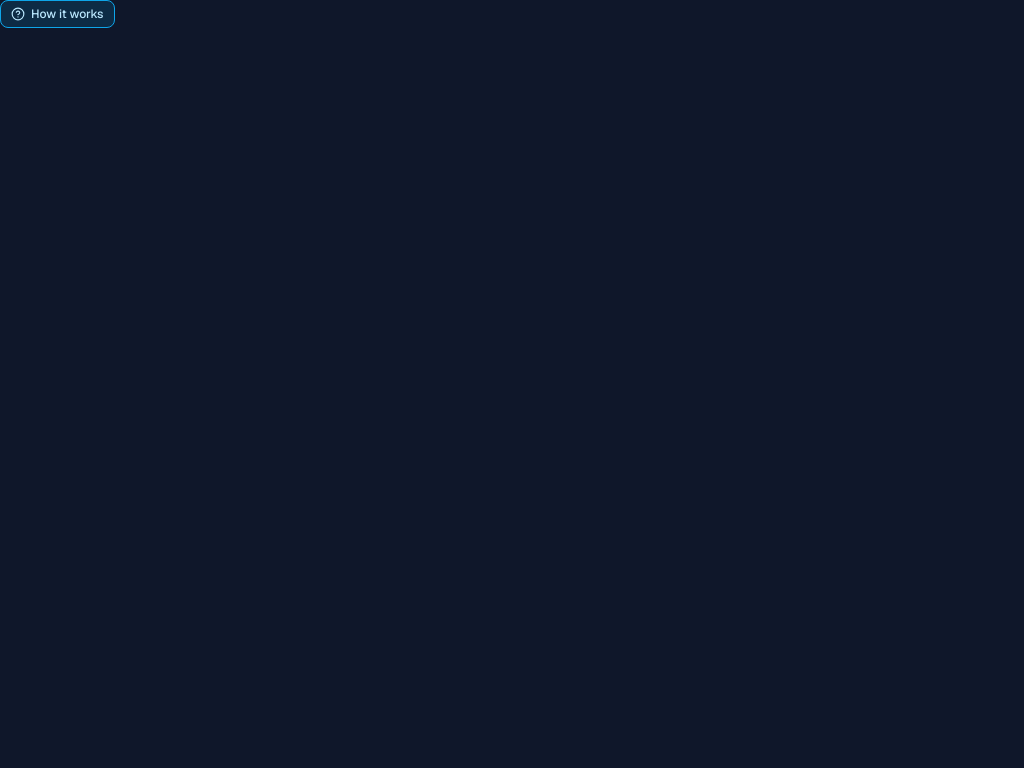
it: LopHelp › opens the instructions for the Project Manager from the LOP page
The width and height of the screenshot is (1024, 768).
Click the button with test id "lop-help-button": (57, 14) [0, 0, 115, 28]
(page scrolled)
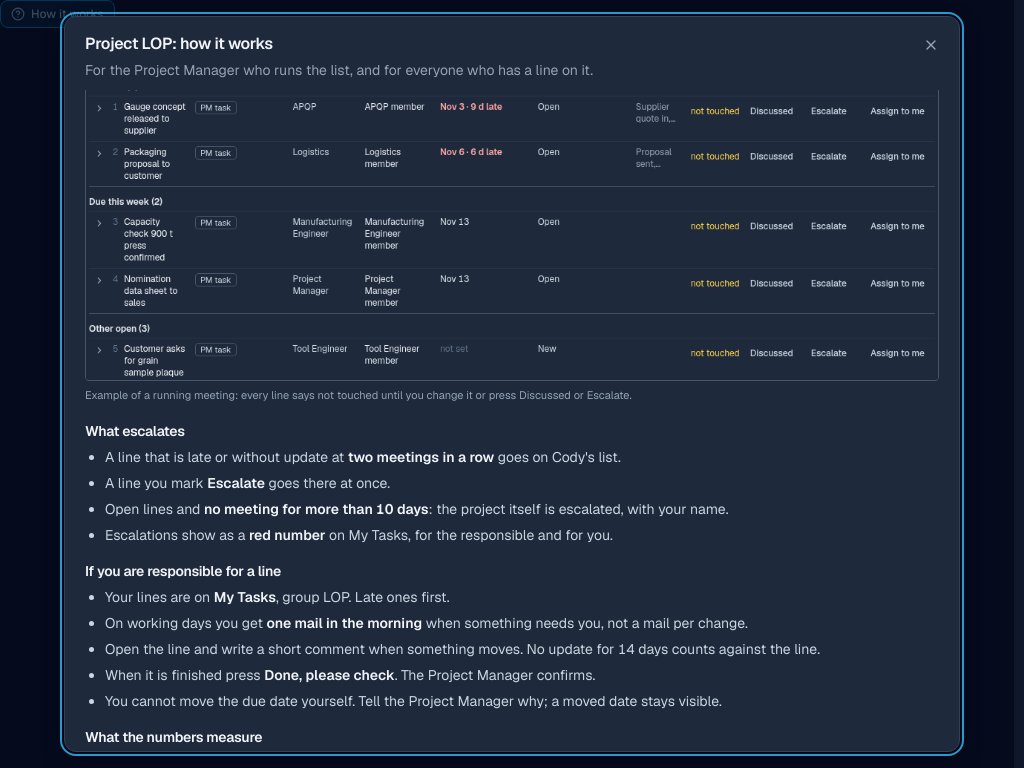
Result: the element with test id "lop-help" shows "two meetings in a row" at [348, 448, 494, 466]
Result: the element with test id "lop-help" shows "one mail in the morning" at [266, 614, 422, 632]
